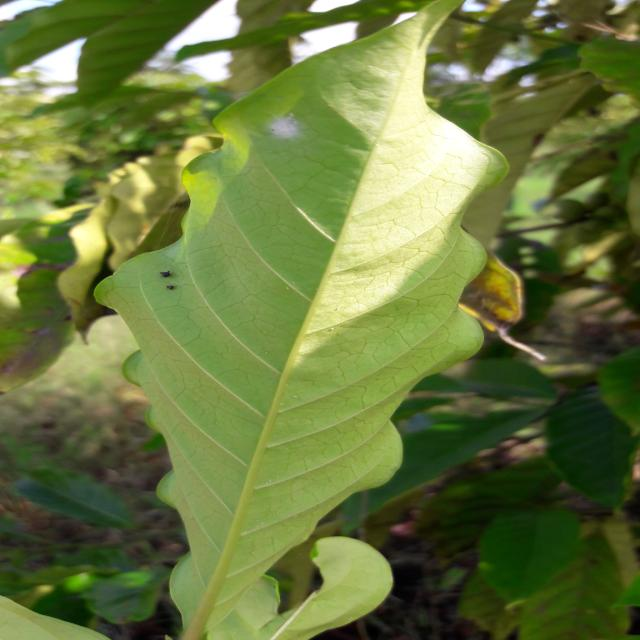Sanas: (93, 0, 512, 640)
